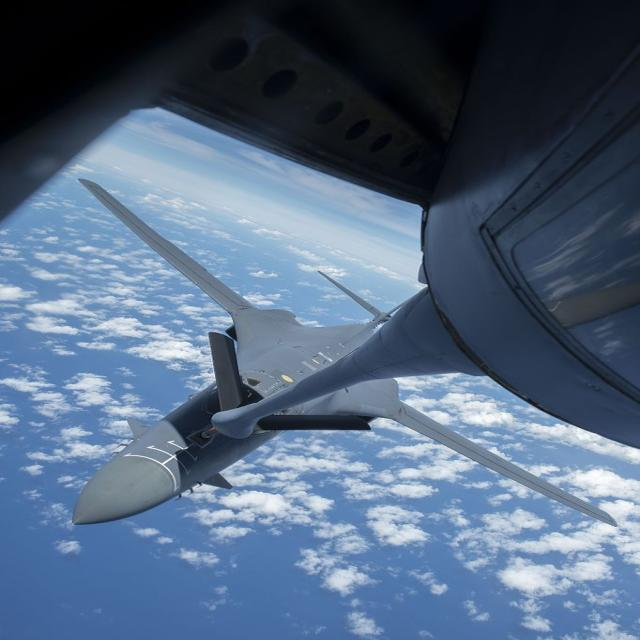MIL_Plane: (70, 178, 619, 527)
